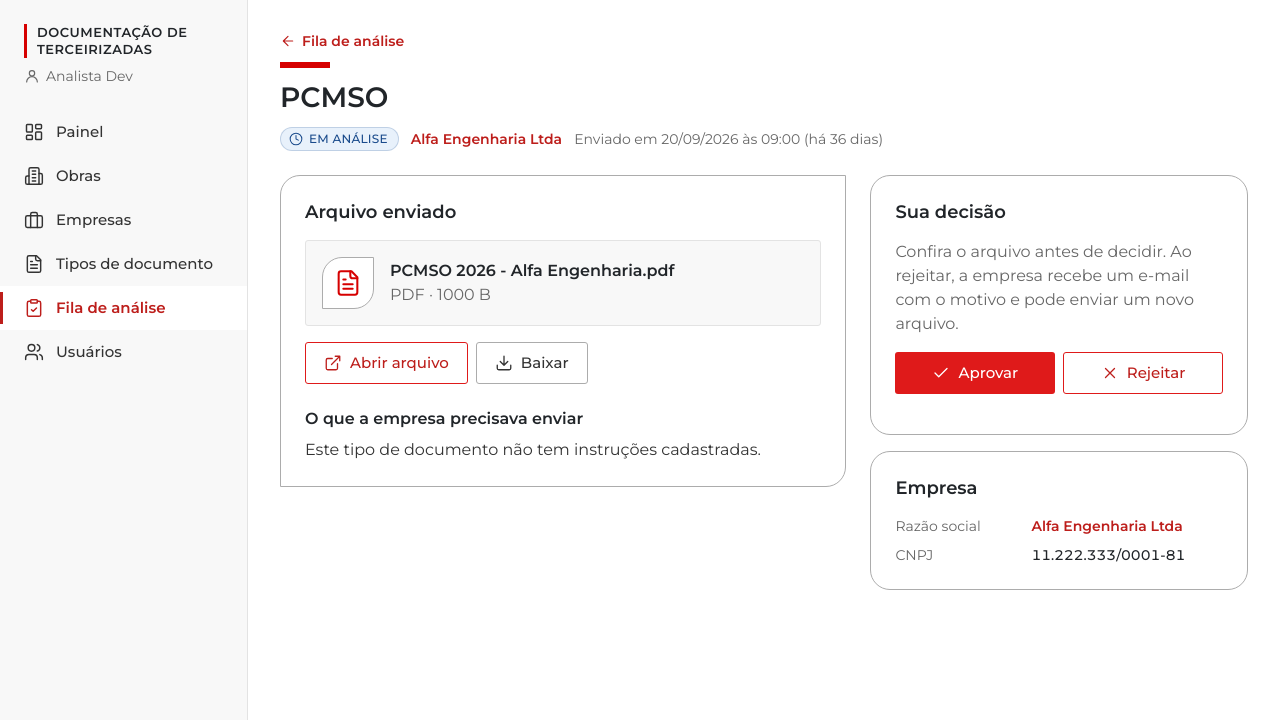
Test: Análise de um envio › ENVIO_JA_ANALISADO exibe "Este envio já foi analisado." e recarrega o envio
The image size is (1280, 720).
Expected: the heading "PCMSO" is shown, top-left (280, 80), bottom-right (388, 114)
Step 1. Click the button "Aprovar" → (975, 373), box top-left (895, 352), bottom-right (1055, 394)
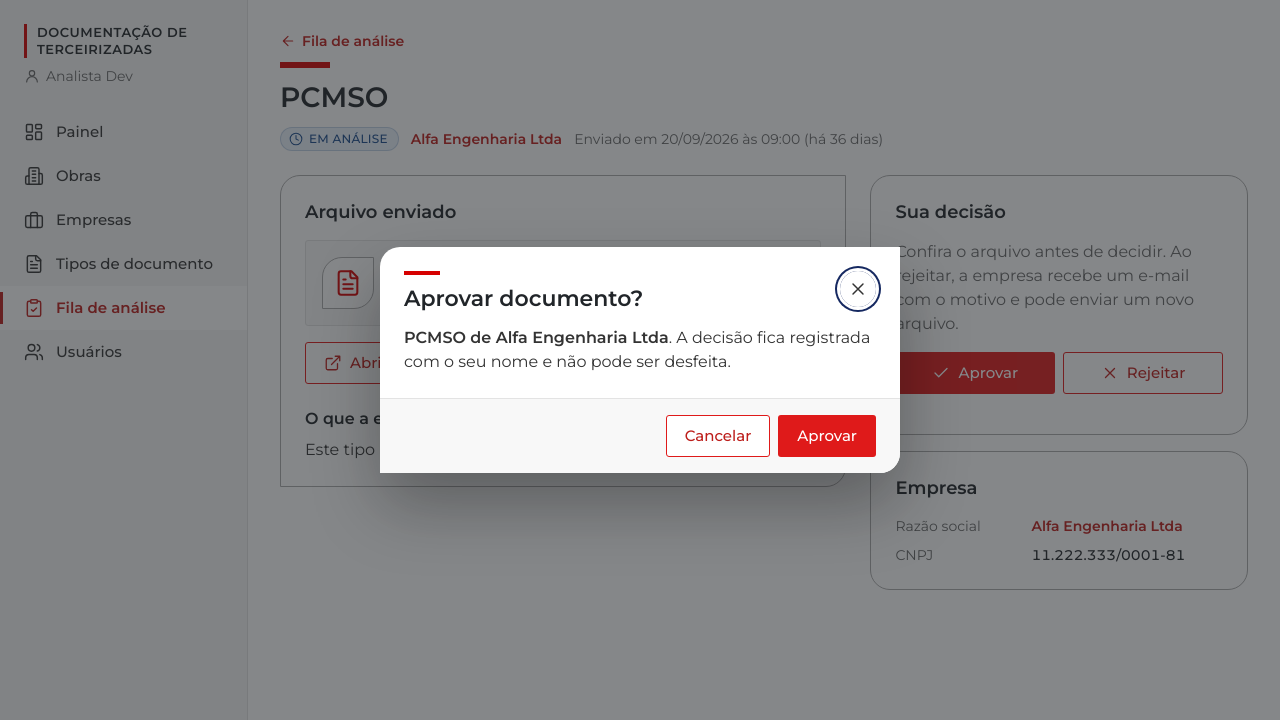
Step 2. Click the button "Aprovar" → (827, 436), box top-left (778, 415), bottom-right (876, 457)
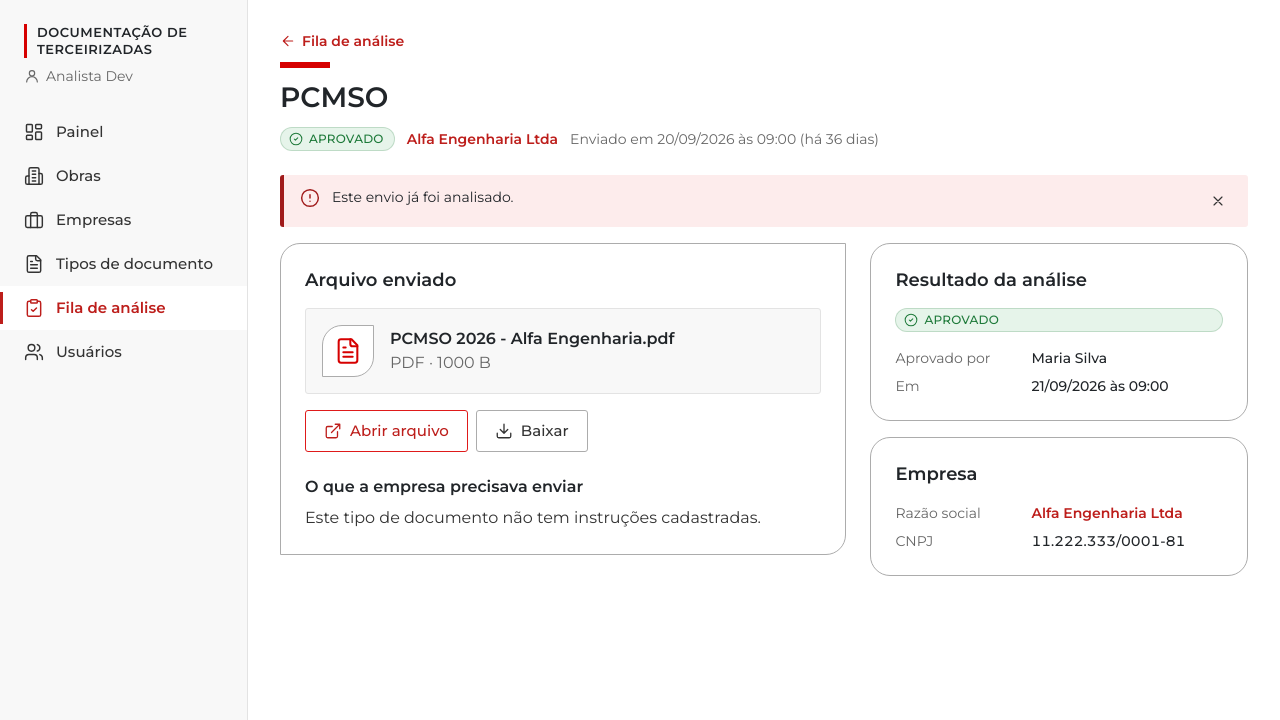
Expected: the text "Este envio já foi analisado." is shown, top-left (332, 188), bottom-right (514, 206)
Expected: the text "Maria Silva" is shown, top-left (1031, 349), bottom-right (1107, 367)
Expected: the button "Aprovar" is gone
